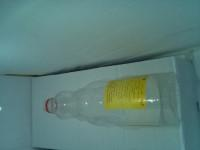bottle: (37, 70, 175, 137)
